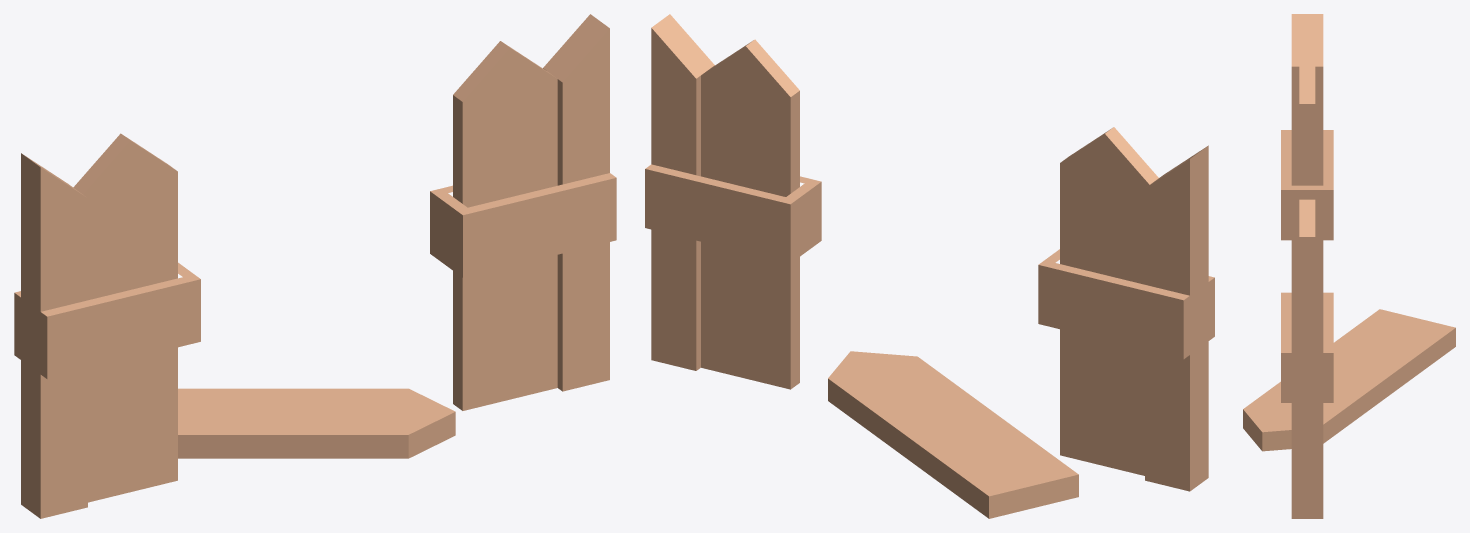
The model's file is fenceDamaged.glb.
The picture shows the model from 3 angles, left to right: view 1: azimuth 30°, elevation 25°; view 2: azimuth 150°, elevation 25°; view 3: azimuth 270°, elevation 25°; orthographic projection. The views are drawn at different scales.
Visible parts, largest first — view 1: fenceDamaged, board (×2); view 2: fenceDamaged, board (×2); view 3: fenceDamaged, board (×2).
Boxes of the visible parts, x1,y1,x2,y2 form: fenceDamaged: (21, 14, 609, 518); board (×2): (14, 173, 616, 379); fenceDamaged: (651, 14, 1208, 518); board (×2): (645, 164, 1214, 359); fenceDamaged: (1243, 14, 1455, 518); board (×2): (1281, 130, 1333, 402).
Bounding box in the file's own units: 1 × 0.59 × 0.4036.
